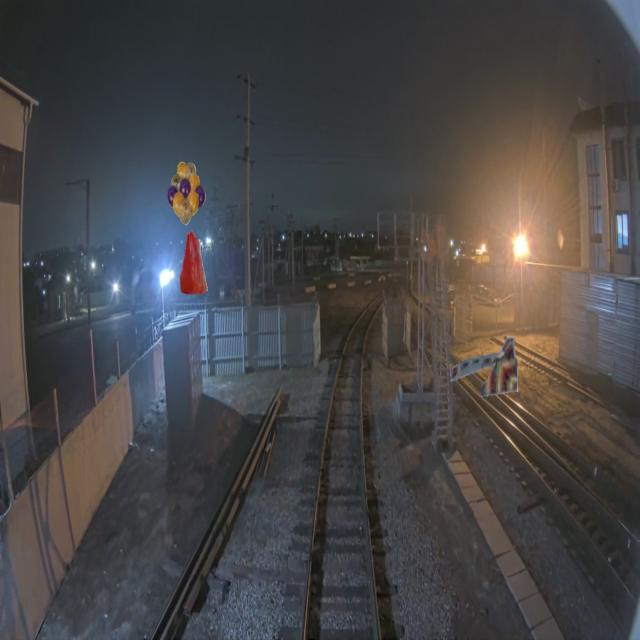balloon: (167, 161, 206, 225)
floating object: (450, 333, 523, 398)
plastic bag: (180, 230, 207, 294)
